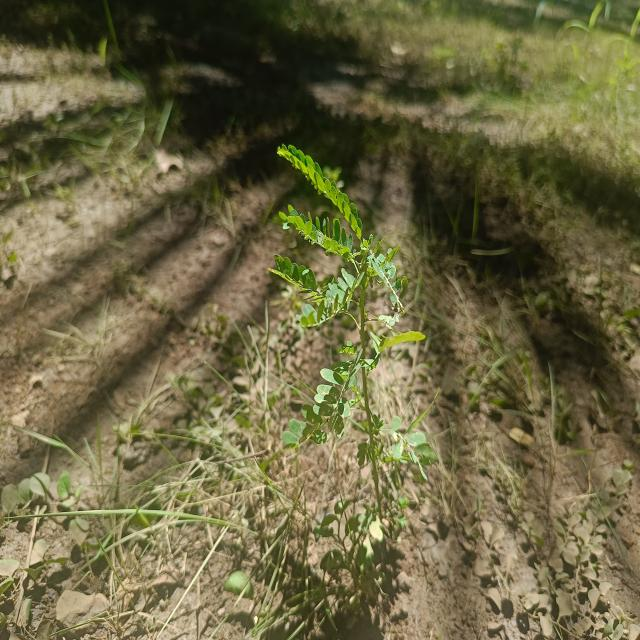weed: (271, 137, 409, 497)
